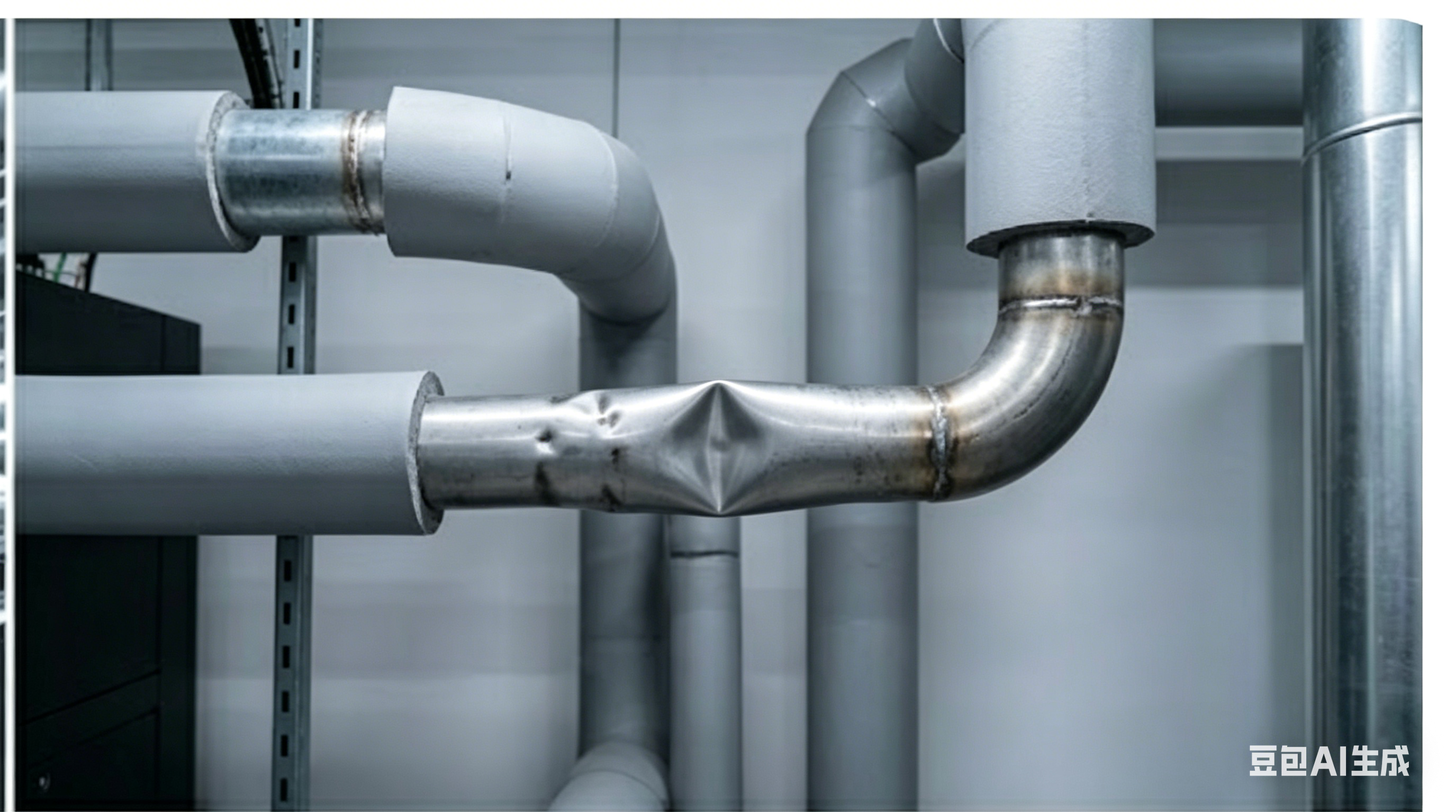Leakage: (658, 374, 776, 542), (521, 380, 646, 511)
